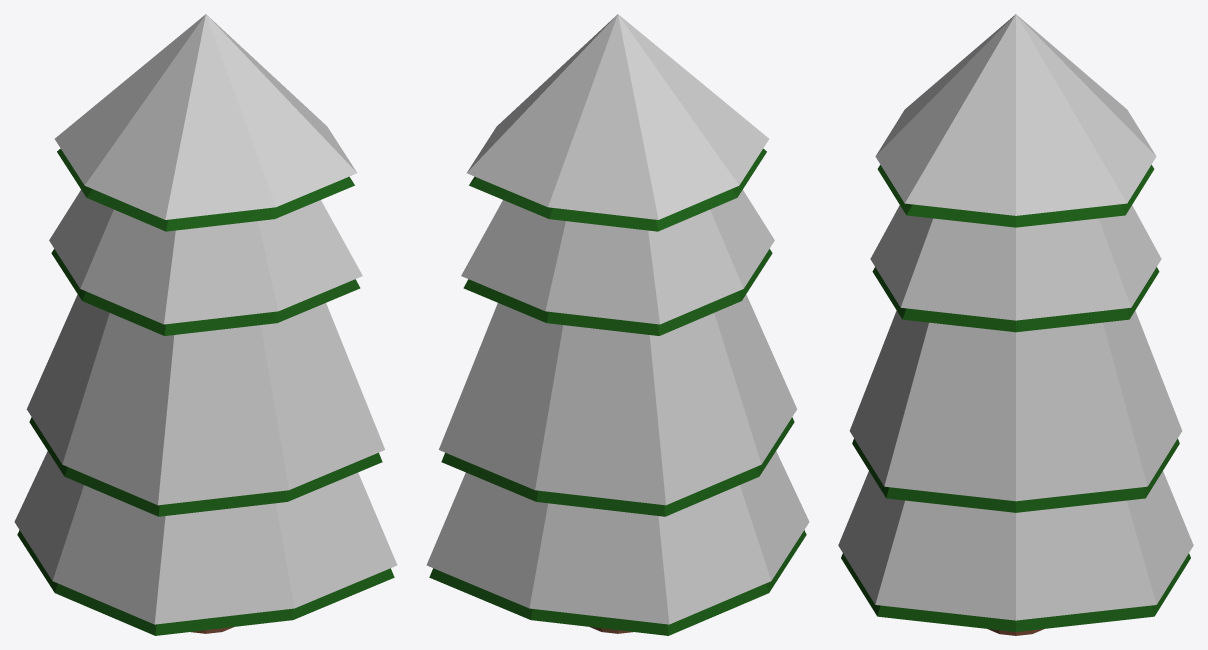
Rendered from Tree_22_winter_vc.fbx.
3 renders of one model, left to right at view 1: azimuth 30°, elevation 25°; view 2: azimuth 150°, elevation 25°; view 3: azimuth 270°, elevation 25°, orthographic.
Visible parts, largest first — view 1: Tree_22_winter_vc; view 2: Tree_22_winter_vc; view 3: Tree_22_winter_vc.
Boxes of the visible parts, x1,y1,x2,y2 form: Tree_22_winter_vc: (14, 14, 397, 635); Tree_22_winter_vc: (426, 14, 809, 635); Tree_22_winter_vc: (838, 14, 1193, 635).
Size of the model in its own units: 2.18 by 4.12 by 2.18.
